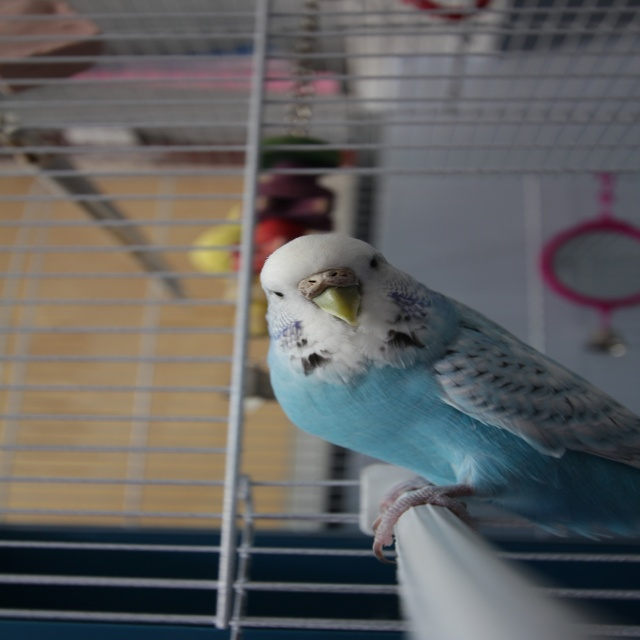Parrot: (258, 228, 637, 553)
